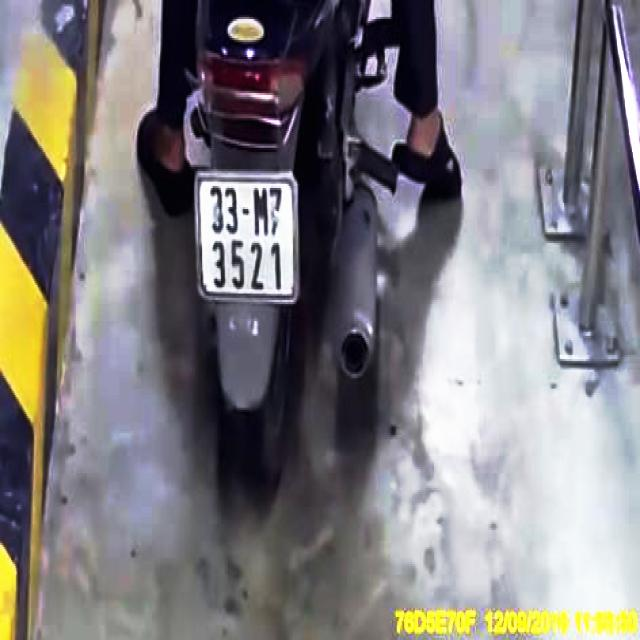license_plate: (197, 177, 300, 301)
